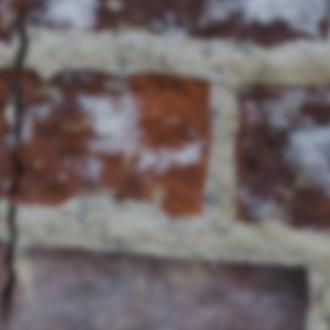brick: (234, 84, 329, 230)
broken_brick: (13, 68, 211, 217), (0, 245, 309, 329), (0, 0, 329, 49), (0, 66, 17, 201), (0, 239, 5, 288)
crack: (0, 2, 29, 327), (197, 190, 202, 215)
